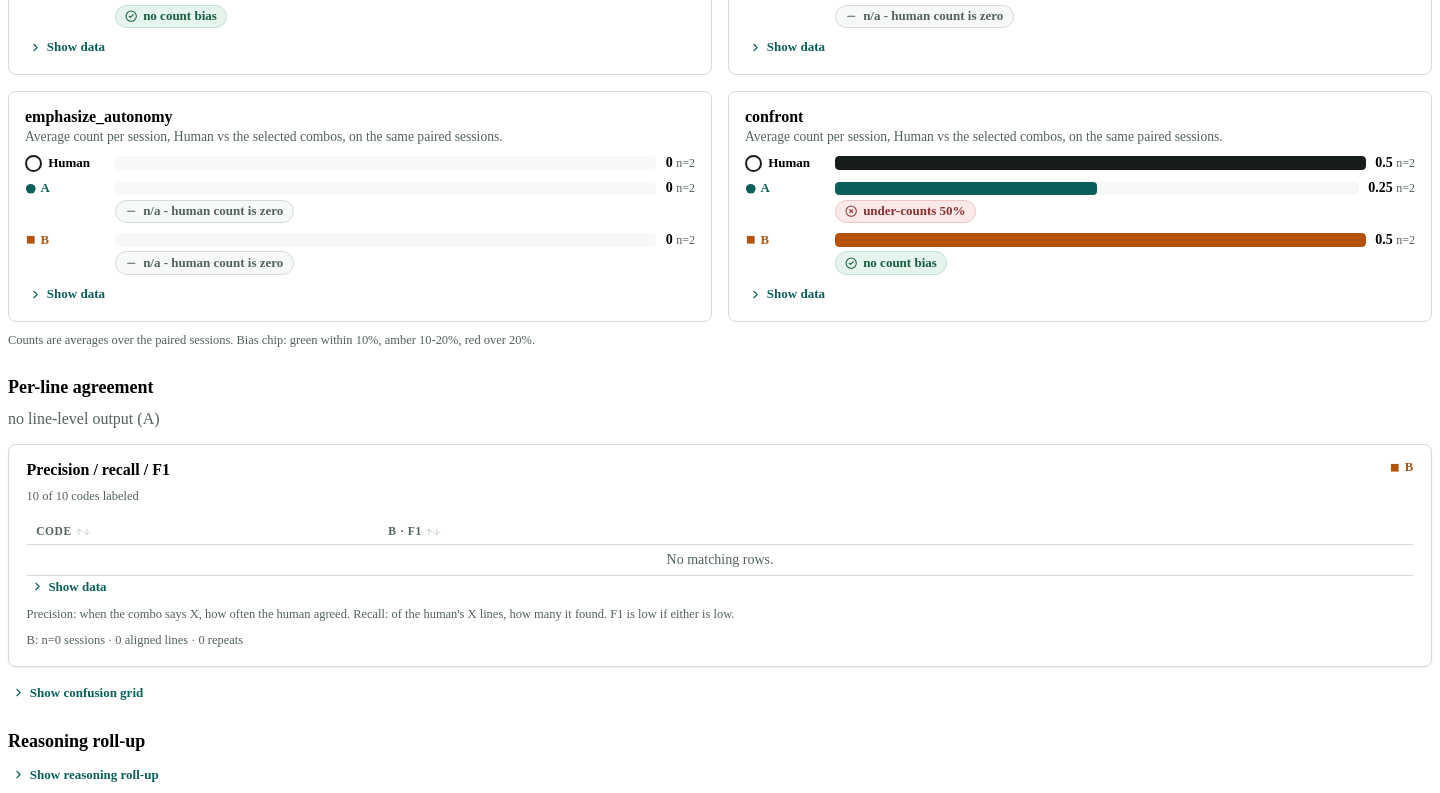
names a missing combo and switches the confusion matrix without losing multi
(page scrolled)
Expected: the text "no line-level output (A)" is shown, [8, 410, 160, 427]
Step 1. Click the button "Show confusion grid" → (78, 693), box [8, 682, 147, 703]
(page scrolled)
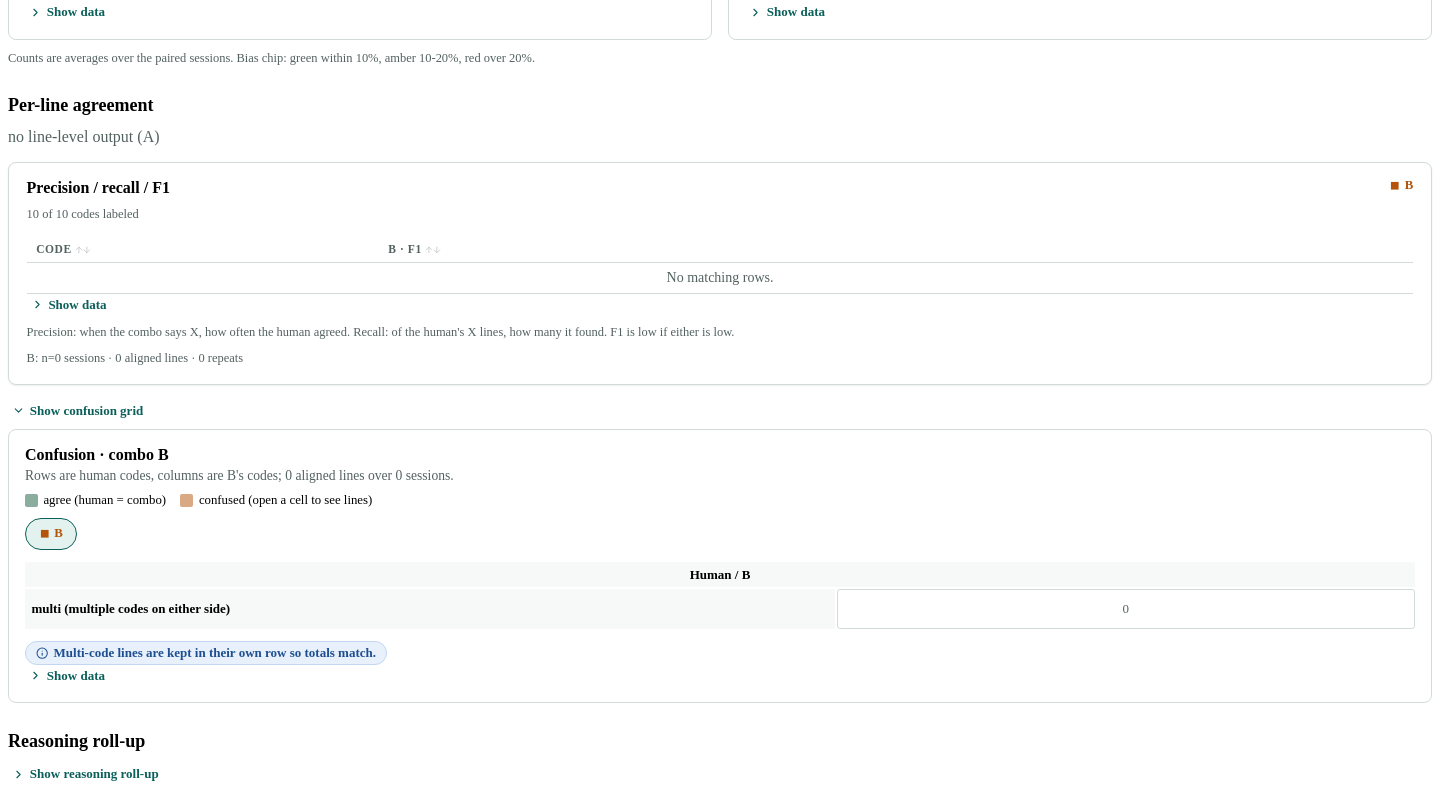
Expected: the button "0" is shown, [837, 589, 1415, 629]
